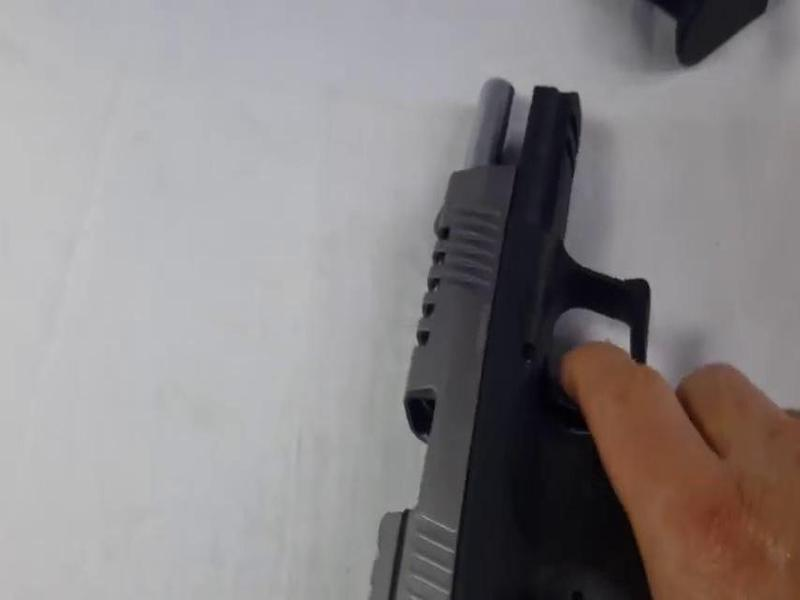Pistola: (360, 66, 655, 600)
